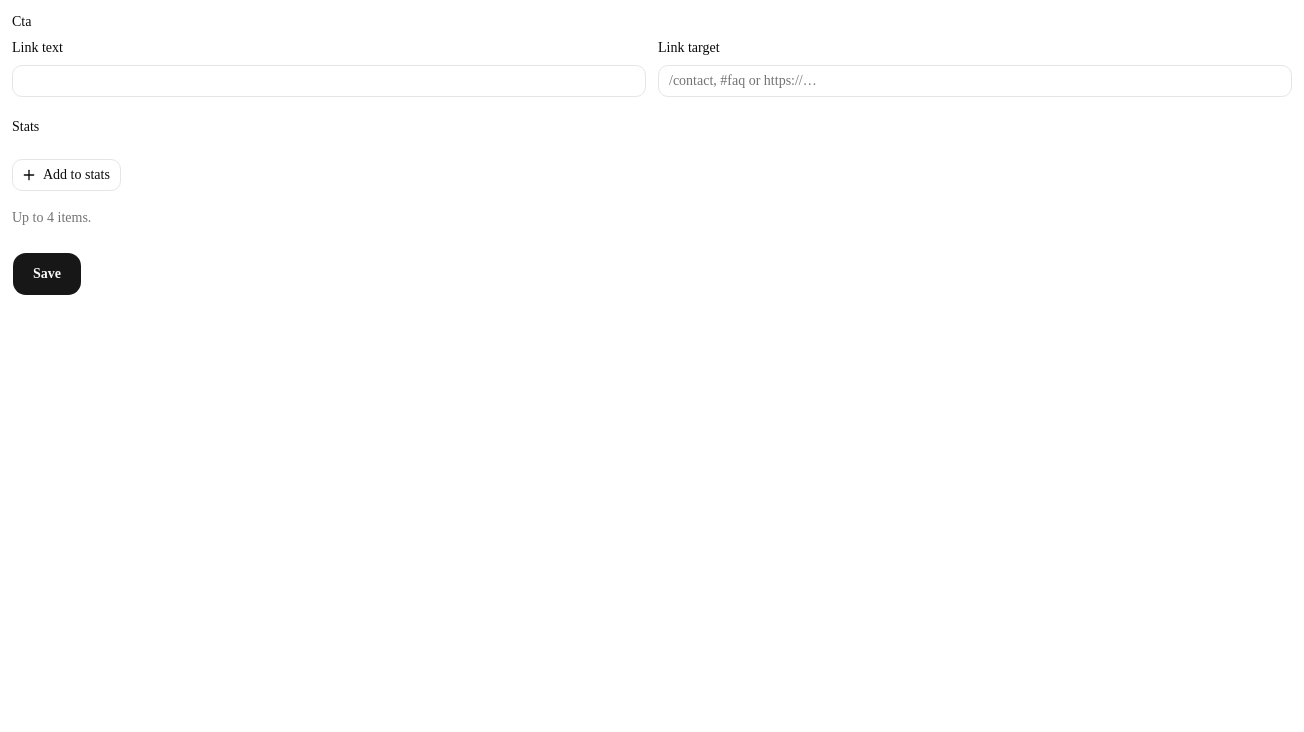
content widgets › adds an object item to a list and renders link fields
Check: the field labelled "Link text" is shown, box x1=12 y1=65 x2=646 y2=97
Check: the field labelled "Link target" is shown, box x1=658 y1=65 x2=1292 y2=97
What coordinates should you click on to do the following:
click the button "Add to stats"
I would click on:
 (66, 175)
Its box is x1=12 y1=159 x2=121 y2=191.
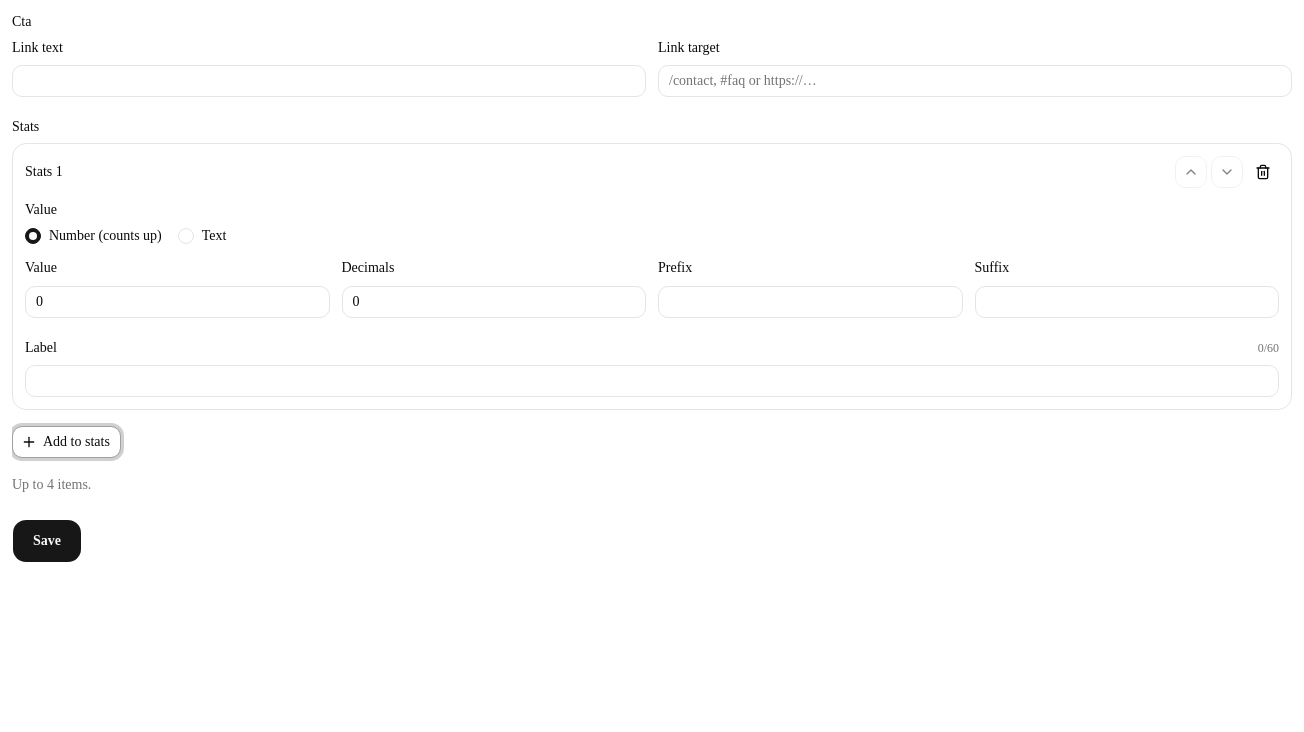
Check: the element "Stats 1" is shown, box x1=12 y1=143 x2=1292 y2=410
